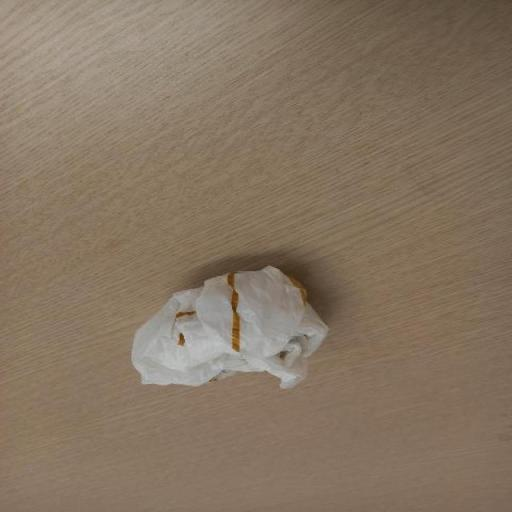plastic-bag: (125, 260, 327, 389)
